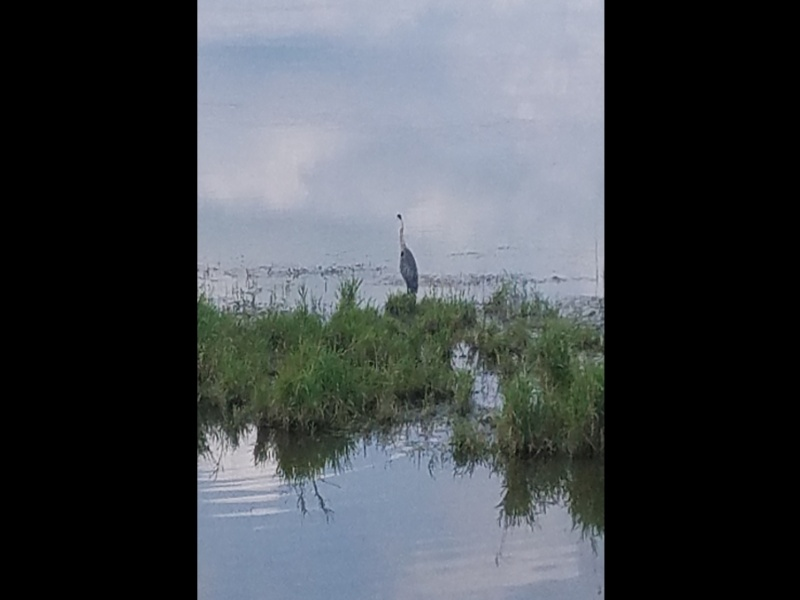heron: (393, 211, 421, 301)
